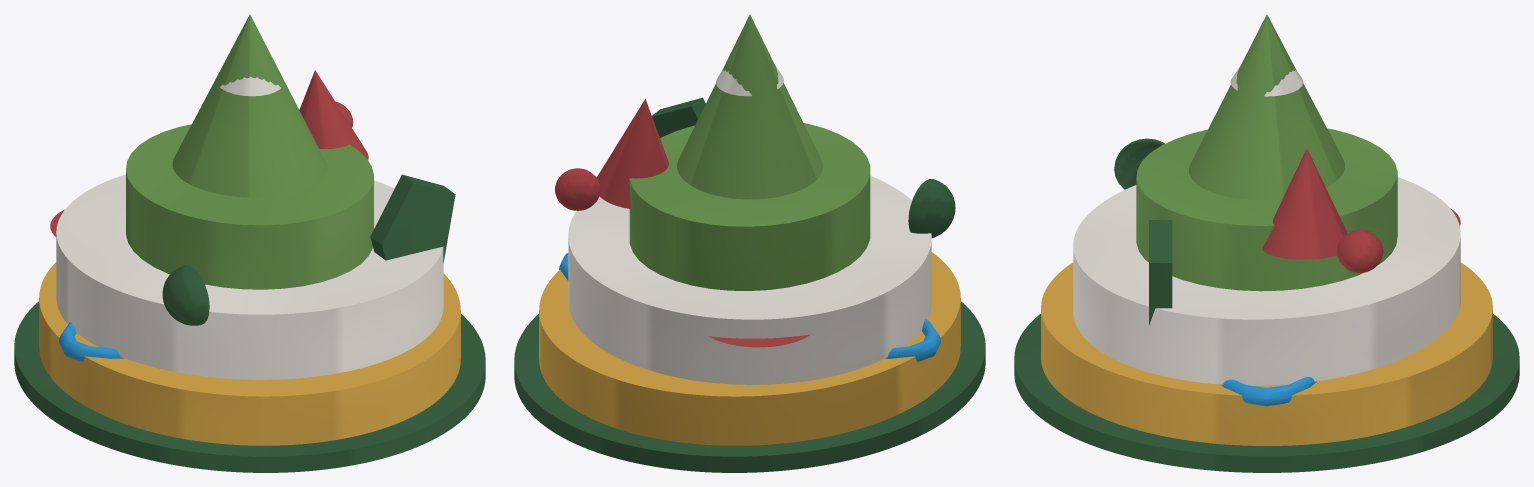
The model's file is 0638_地貌图鉴_乌素特水上雅丹.glb.
The picture shows the model from 3 angles, left to right: view 1: azimuth 30°, elevation 25°; view 2: azimuth 150°, elevation 25°; view 3: azimuth 270°, elevation 25°; orthographic projection.
Visible parts, largest first — view 1: card_0638; view 2: card_0638; view 3: card_0638.
Boxes of the visible parts, x1=… form: card_0638: x1=14, y1=14, x2=485, y2=472; card_0638: x1=514, y1=14, x2=985, y2=472; card_0638: x1=1014, y1=14, x2=1519, y2=472.
Size of the model in its own units: 1.18 by 1 by 1.27.
